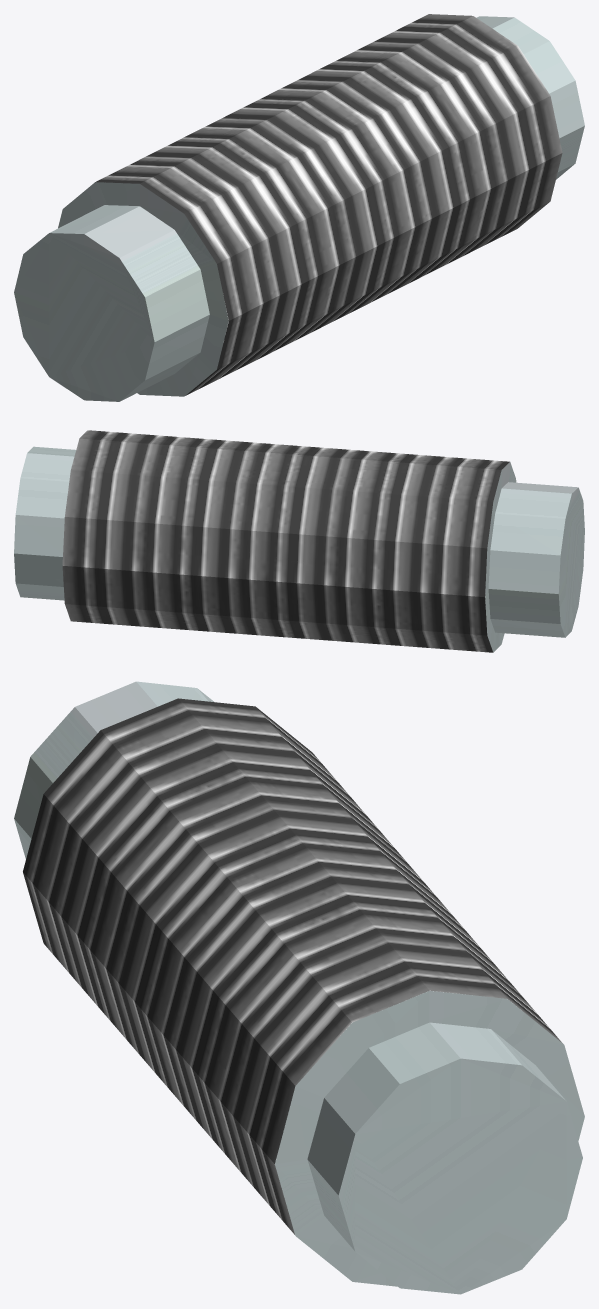
Rendered from jyz003-geode.glb.
3 renders of one model, top to bottom at view 1: azimuth 30°, elevation 25°; view 2: azimuth 150°, elevation 25°; view 3: azimuth 270°, elevation 25°, orthographic. The views are drawn at different scales.
Parts seen in each view (by area): view 1: Node; view 2: Node; view 3: Node.
Part boxes in pixels (box(x1,y1,x2,y2)): Node: box(14, 14, 584, 401); Node: box(14, 430, 584, 652); Node: box(14, 681, 584, 1294).
Size of the model in its own units: 0.5859 by 0.1972 by 0.3409.
Materials: 2 (2 with a texture image).
